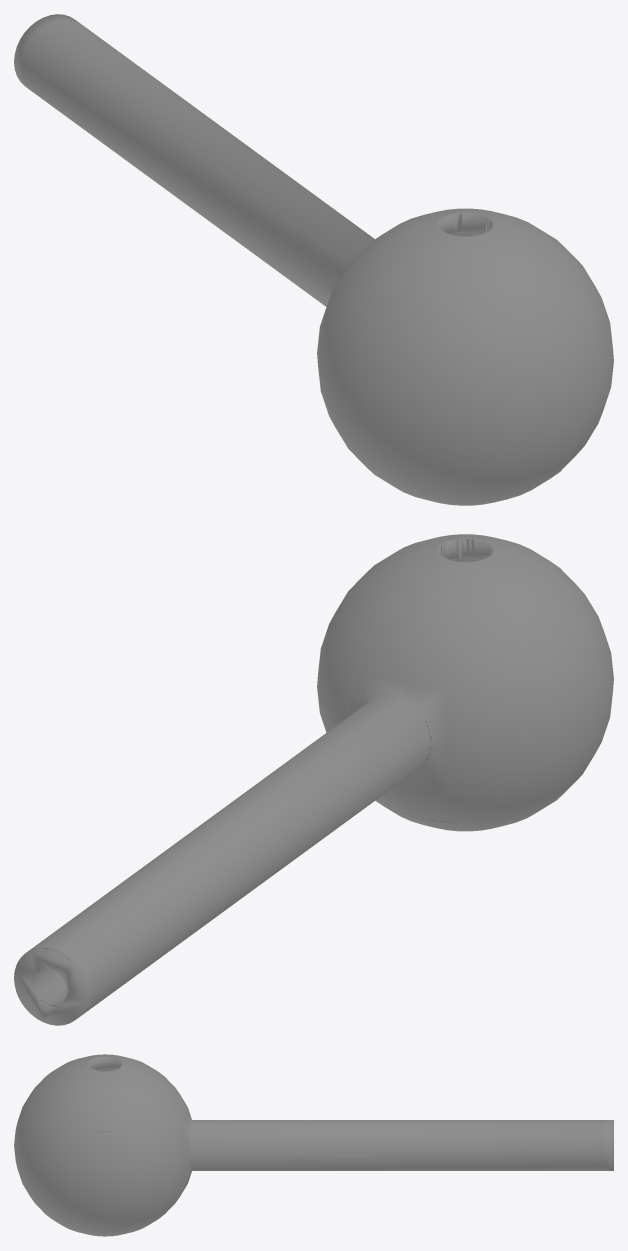
Rendered from speed-boost.glb.
3 views of the same model, one above another, from view 1: azimuth 30°, elevation 25°; view 2: azimuth 150°, elevation 25°; view 3: azimuth 270°, elevation 25° (orthographic). The views are drawn at different scales.
Parts seen in each view (by area): view 1: Sphere; view 2: Sphere; view 3: Sphere.
Part boxes in pixels (left/top/right/bottom): Sphere: left=14, top=14, right=613, bottom=505; Sphere: left=14, top=534, right=613, bottom=1025; Sphere: left=14, top=1054, right=613, bottom=1236.
Size of the model in its own units: 1.05 by 1.04 by 3.45.
Materials: 1 (1 with a texture image).
